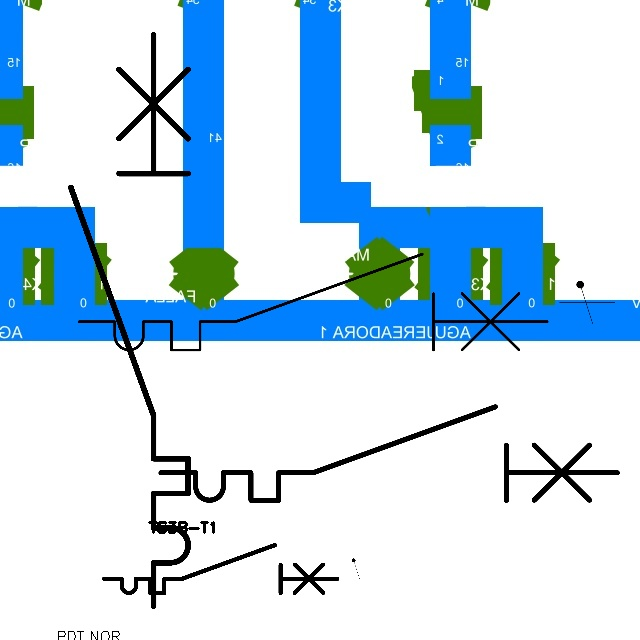interruptor_termomagnetico: (56, 20, 203, 621), (67, 242, 559, 362), (149, 395, 629, 512), (98, 539, 343, 599)
